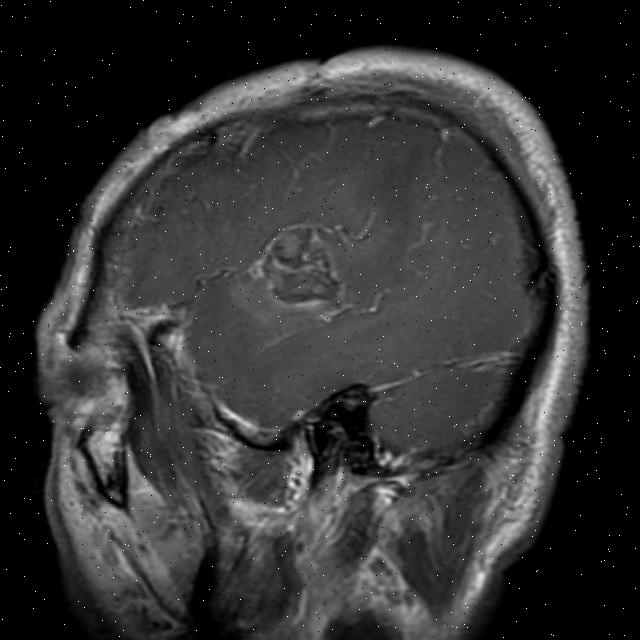Glioma: (250, 221, 348, 313)
